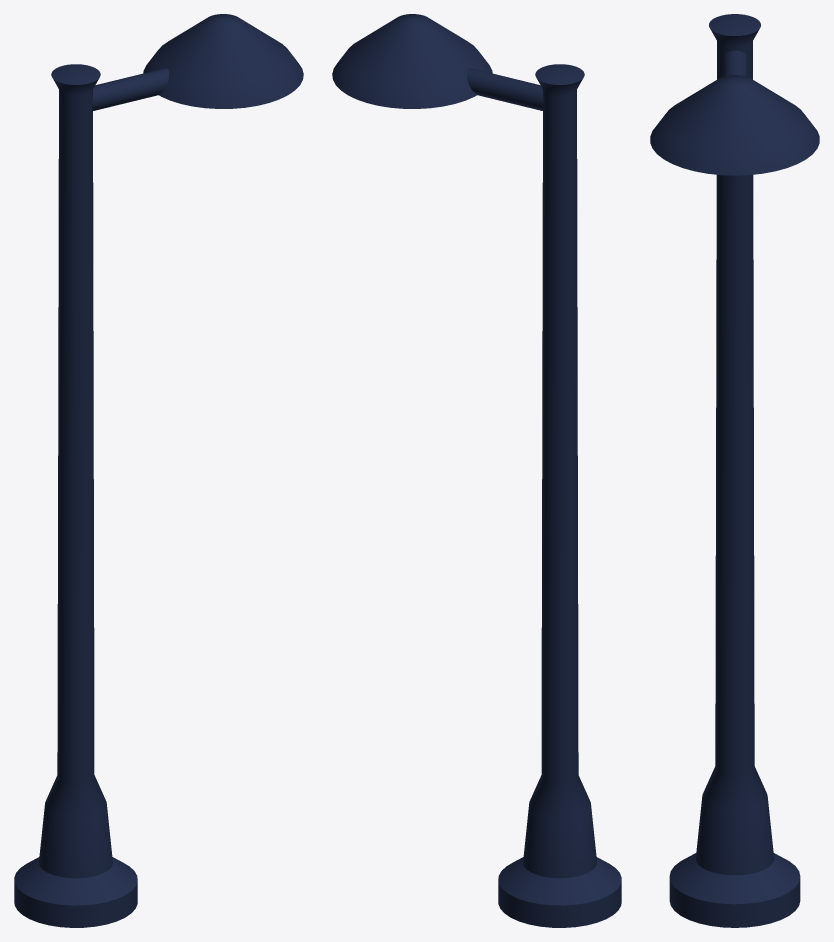
The model's file is lamp.glb.
3 views of the same model, side by side, from view 1: azimuth 30°, elevation 25°; view 2: azimuth 150°, elevation 25°; view 3: azimuth 270°, elevation 25° (orthographic). The views are drawn at different scales.
Parts seen in each view (by area): view 1: lamp; view 2: lamp; view 3: lamp.
Boxes of the visible parts, <box> form: lamp: <box>14,14,303,927</box>; lamp: <box>332,14,621,927</box>; lamp: <box>650,14,819,927</box>.
Size of the model in its own units: 1.01 by 3.02 by 0.5182.
Materials: 1 (1 with a texture image).
